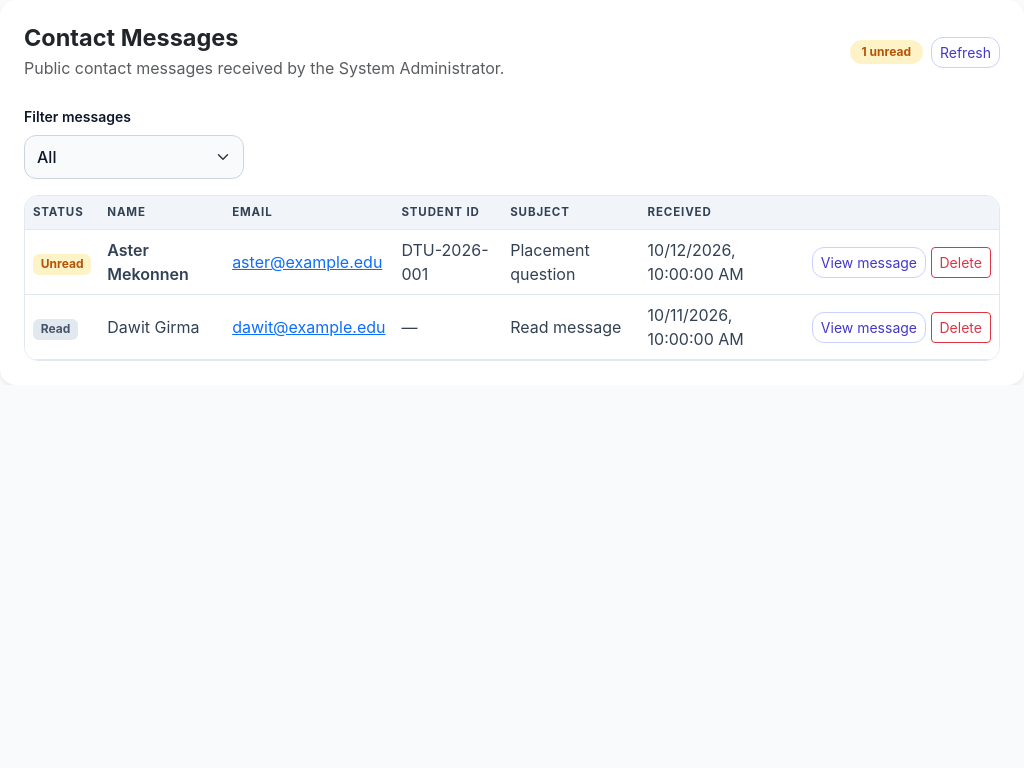
Test: ContactMessages › marks the message as replied when email delivery is unavailable but the reply is saved
expect the text "Aster Mekonnen" is shown: met, box [99,230,224,295]
Click the button "View message" in the row of "Aster Mekonnen" at (869, 262), box [812,247,926,278]
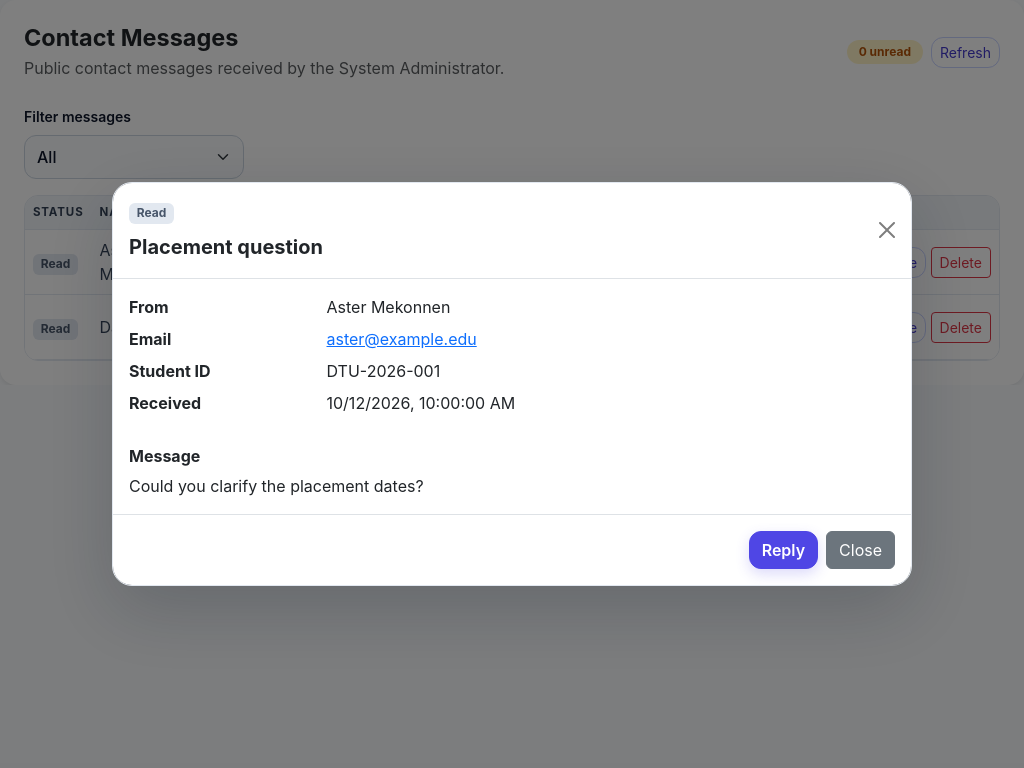
expect the text "Could you clarify the placement dates?" is shown: met, box [129,476,424,496]
Click the button "Reply" at (783, 550), box [749,531,818,569]
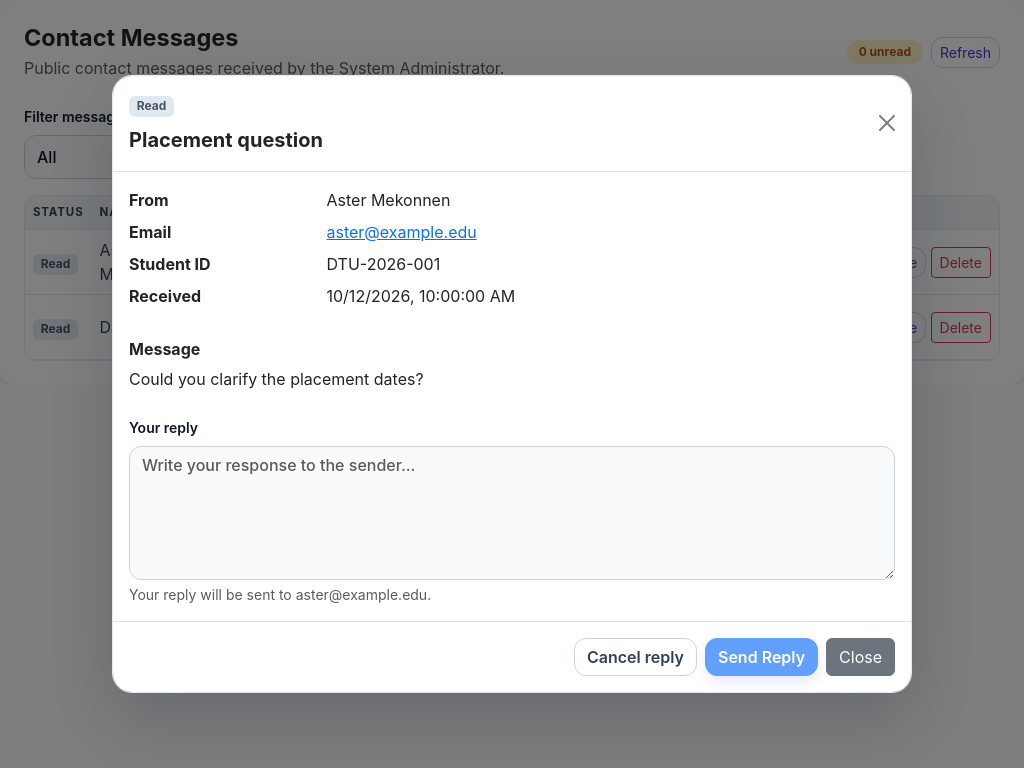
Type "Thanks." into the text box labelled "Your reply" at (512, 513), box [129,446,895,580]
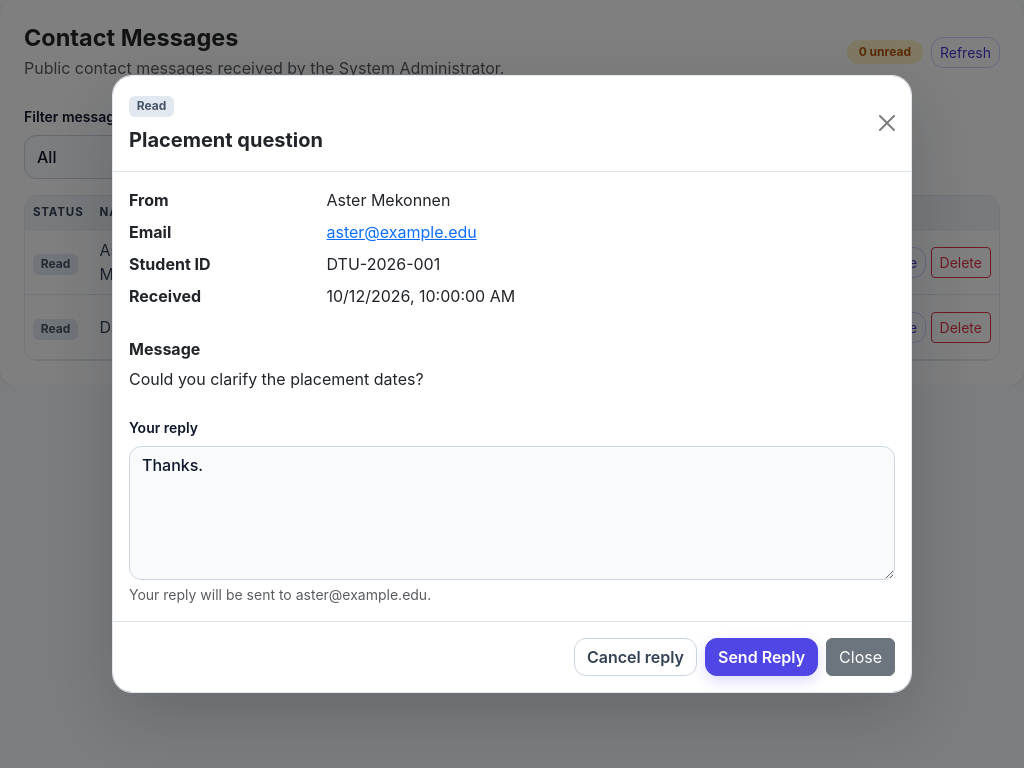
Click the button "Send Reply" at (762, 657), box [705,638,818,676]
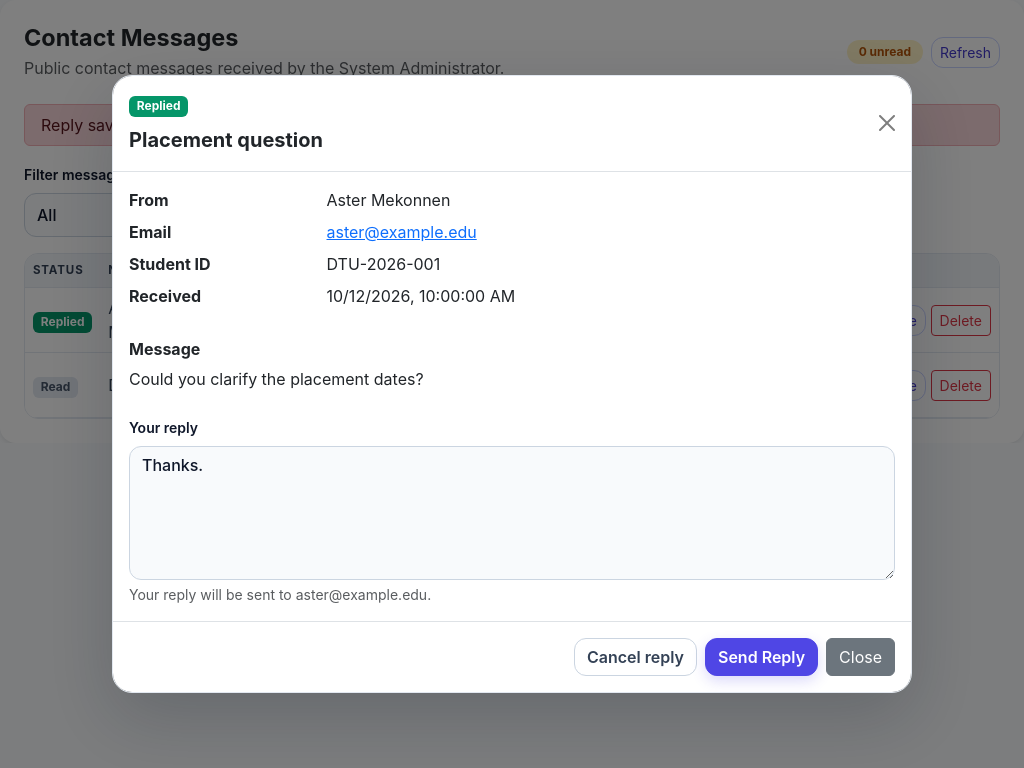
expect the dialog is shown: met
expect the message shows "Reply saved, but email delivery failed. Check Gmail SMTP configuration and server logs.": met, box [41,115,707,135]
expect the text "Replied" is shown: met, box [129,96,188,116]
